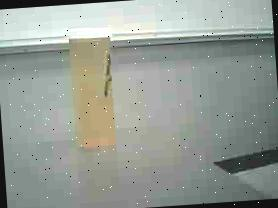Bottle A: (68, 28, 114, 149)
